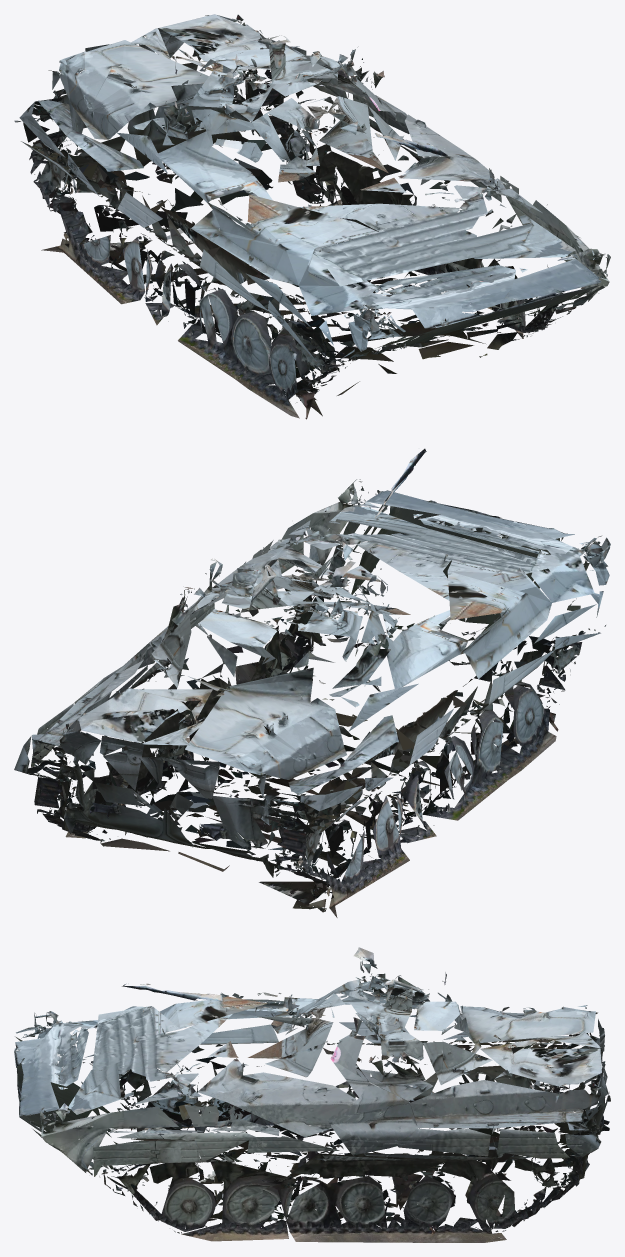
File: bmp2-scan.glb
3 renders of one model, top to bottom at view 1: azimuth 30°, elevation 25°; view 2: azimuth 150°, elevation 25°; view 3: azimuth 270°, elevation 25°, orthographic. The views are drawn at different scales.
Visible parts, largest first — view 1: Stereo textured mesh_Material2_0, Stereo textured mesh_Material0_0, Stereo textured mesh_Material6_0, Stereo textured mesh_Material7_0, Stereo textured mesh_Material1_0, Stereo textured mesh_Material4_0, Stereo textured mesh_Material3_0, Stereo textured mesh_Material5_0; view 2: Stereo textured mesh_Material2_0, Stereo textured mesh_Material0_0, Stereo textured mesh_Material6_0, Stereo textured mesh_Material7_0, Stereo textured mesh_Material5_0, Stereo textured mesh_Material1_0, Stereo textured mesh_Material4_0, Stereo textured mesh_Material3_0; view 3: Stereo textured mesh_Material6_0, Stereo textured mesh_Material3_0, Stereo textured mesh_Material1_0, Stereo textured mesh_Material2_0, Stereo textured mesh_Material5_0, Stereo textured mesh_Material0_0, Stereo textured mesh_Material4_0, Stereo textured mesh_Material7_0.
Part boxes in pixels (bbox=[...]): Stereo textured mesh_Material2_0: bbox=[19, 22, 605, 394]; Stereo textured mesh_Material0_0: bbox=[30, 47, 603, 418]; Stereo textured mesh_Material6_0: bbox=[29, 35, 609, 402]; Stereo textured mesh_Material7_0: bbox=[23, 14, 604, 395]; Stereo textured mesh_Material1_0: bbox=[52, 14, 603, 383]; Stereo textured mesh_Material4_0: bbox=[14, 38, 610, 406]; Stereo textured mesh_Material3_0: bbox=[32, 28, 599, 383]; Stereo textured mesh_Material5_0: bbox=[41, 15, 604, 419]; Stereo textured mesh_Material2_0: bbox=[36, 479, 605, 892]; Stereo textured mesh_Material0_0: bbox=[38, 488, 589, 891]; Stereo textured mesh_Material6_0: bbox=[34, 490, 603, 900]; Stereo textured mesh_Material7_0: bbox=[28, 448, 604, 912]; Stereo textured mesh_Material5_0: bbox=[14, 451, 609, 917]; Stereo textured mesh_Material1_0: bbox=[70, 493, 601, 890]; Stereo textured mesh_Material4_0: bbox=[31, 479, 589, 892]; Stereo textured mesh_Material3_0: bbox=[58, 486, 610, 892]; Stereo textured mesh_Material6_0: bbox=[19, 960, 606, 1241]; Stereo textured mesh_Material3_0: bbox=[17, 961, 607, 1242]; Stereo textured mesh_Material1_0: bbox=[16, 973, 601, 1223]; Stereo textured mesh_Material2_0: bbox=[40, 979, 609, 1231]; Stereo textured mesh_Material5_0: bbox=[34, 976, 608, 1227]; Stereo textured mesh_Material0_0: bbox=[25, 963, 605, 1231]; Stereo textured mesh_Material4_0: bbox=[14, 947, 610, 1230]; Stereo textured mesh_Material7_0: bbox=[14, 956, 609, 1233].
Size of the model in its own units: 418 by 341 by 853.
8 materials, 8 textured.
